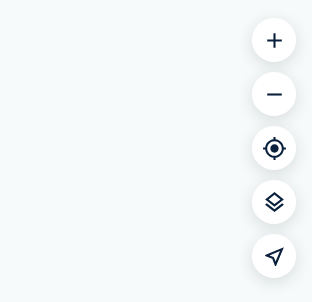
Test case: shows a recoverable message when the user denies location access
The width and height of the screenshot is (312, 302).
Later steps or results of the test are not shown.
Click the button named "Ir a mi ubicación". click: (274, 256)
box: top-left (252, 234), bottom-right (296, 278)
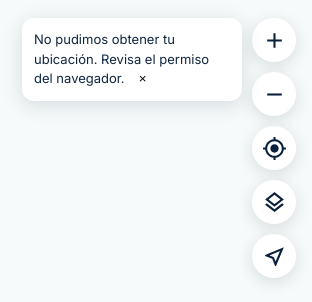
Expected: the message shows "No pudimos obtener tu ubicación", top-left (34, 31), bottom-right (209, 86)
Click the button named "Cerrar aviso". click: (142, 78)
box: top-left (133, 70), bottom-right (152, 87)
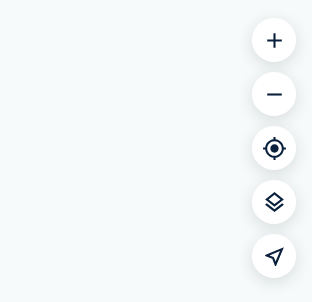
Expected: the message "No pudimos obtener tu ubicación. Revisa el permiso del navegador. ×" is gone
